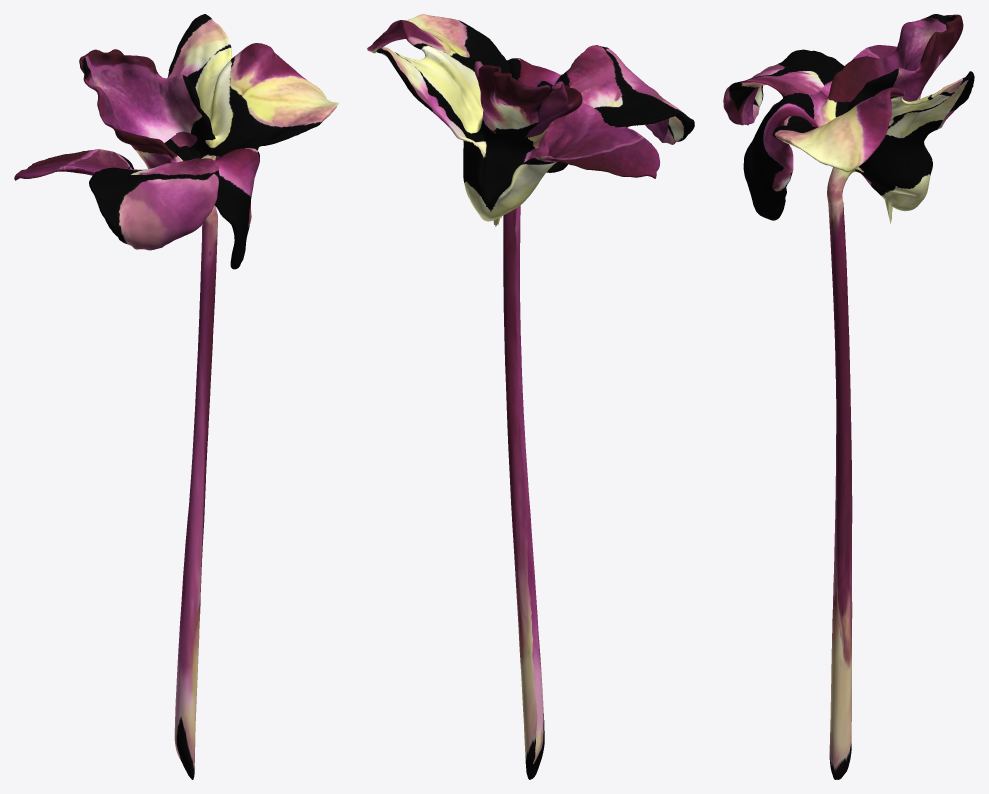
The model's file is orchid-print.glb.
The picture shows the model from 3 angles, left to right: view 1: azimuth 30°, elevation 25°; view 2: azimuth 150°, elevation 25°; view 3: azimuth 270°, elevation 25°; orthographic projection. The views are drawn at different scales.
Bounding box in the file's own units: 1.6 × 3.73 × 1.14.
1 material, 1 textured.
